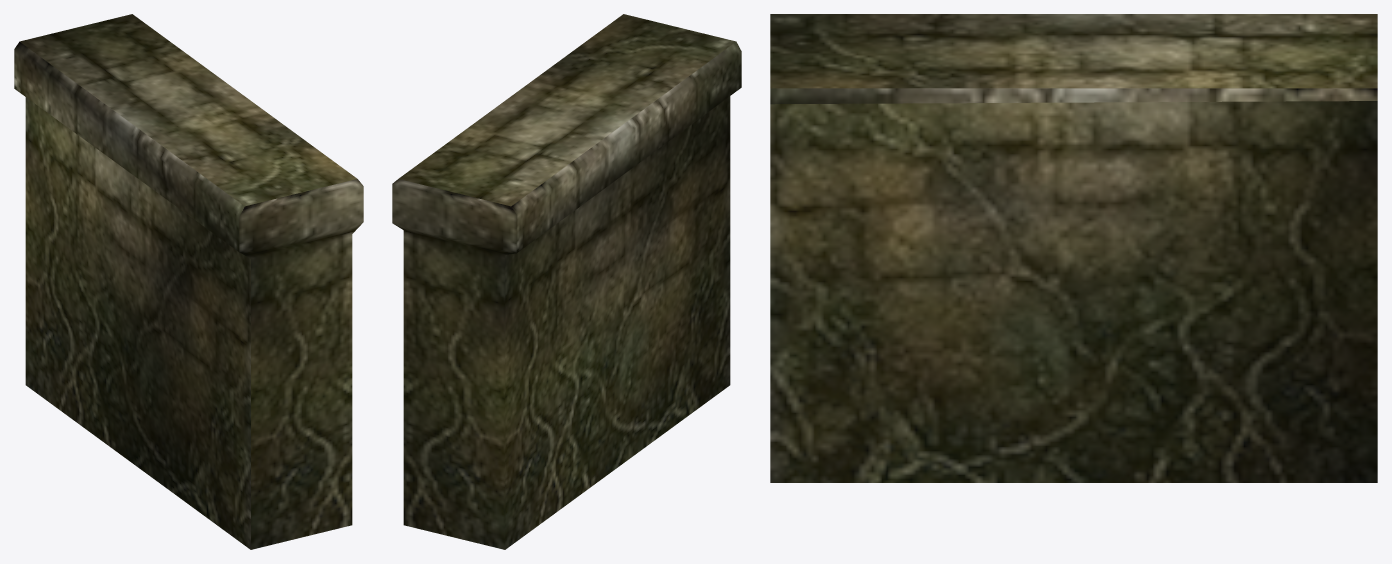
Rendered from S_Build_3star007_A1.FBX.
3 views of the same model, side by side, from view 1: azimuth 30°, elevation 25°; view 2: azimuth 150°, elevation 25°; view 3: azimuth 270°, elevation 25° (orthographic). The views are drawn at different scales.
Parts seen in each view (by area): view 1: S_Build_3star007_A1; view 2: S_Build_3star007_A1; view 3: S_Build_3star007_A1.
Boxes of the visible parts, x1,y1,x2,y2 form: S_Build_3star007_A1: (14, 14, 363, 549); S_Build_3star007_A1: (392, 14, 741, 549); S_Build_3star007_A1: (770, 14, 1377, 482).
Size of the model in its own units: 175 by 464 by 550.
